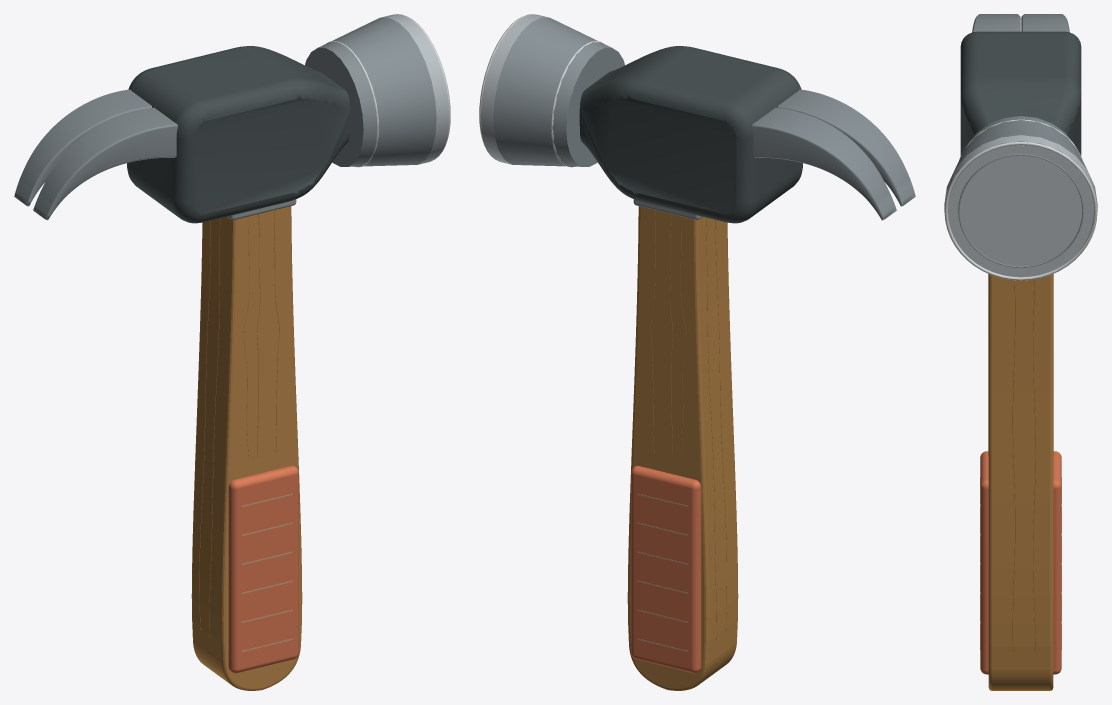
The model's file is workshop-hammer.glb.
3 renders of one model, left to right at view 1: azimuth 30°, elevation 25°; view 2: azimuth 150°, elevation 25°; view 3: azimuth 270°, elevation 25°, orthographic.
Visible parts, largest first — view 1: Wood_Handle, steelInset, Grip_Front, steel, Claw_Back, Claw_Front, steelEdge; view 2: Wood_Handle, steelInset, Grip_Back, steel, Claw_Front, Claw_Back, steelEdge; view 3: Wood_Handle, steelEdge, steelInset, steel, Grip_Front, Grip_Back, Polished_Striking_Rim, Claw_Front, Claw_Back, Machined_Face_Groove, Side_Wood_Right_5, Side_Wood_Right_2.
Boxes of the visible parts, box(x1,y1,x2,y2) form: Wood_Handle: box(191, 206, 302, 690); steelInset: box(127, 46, 350, 223); Grip_Front: box(228, 465, 298, 673); steel: box(305, 17, 436, 166); Claw_Back: box(33, 107, 177, 220); Claw_Front: box(14, 89, 151, 206); steelEdge: box(381, 14, 449, 164); Wood_Handle: box(627, 206, 738, 690); steelInset: box(579, 46, 802, 223); Grip_Back: box(631, 465, 701, 673); steel: box(493, 17, 624, 166); Claw_Front: box(752, 107, 896, 220); Claw_Back: box(778, 89, 915, 206); steelEdge: box(480, 14, 548, 164); Wood_Handle: box(988, 274, 1053, 690); steelEdge: box(944, 135, 1097, 277); steelInset: box(960, 31, 1081, 155); steel: box(955, 116, 1086, 168); Grip_Front: box(980, 451, 988, 674); Grip_Back: box(1053, 451, 1061, 674); Polished_Striking_Rim: box(944, 142, 1097, 280); Claw_Front: box(1021, 14, 1069, 32); Claw_Back: box(972, 14, 1020, 32); Machined_Face_Groove: box(958, 154, 1083, 267); Side_Wood_Right_5: box(1012, 280, 1015, 651); Side_Wood_Right_2: box(1033, 279, 1035, 651).
Size of the model in its own units: 0.2629 by 0.4061 by 0.0902.
